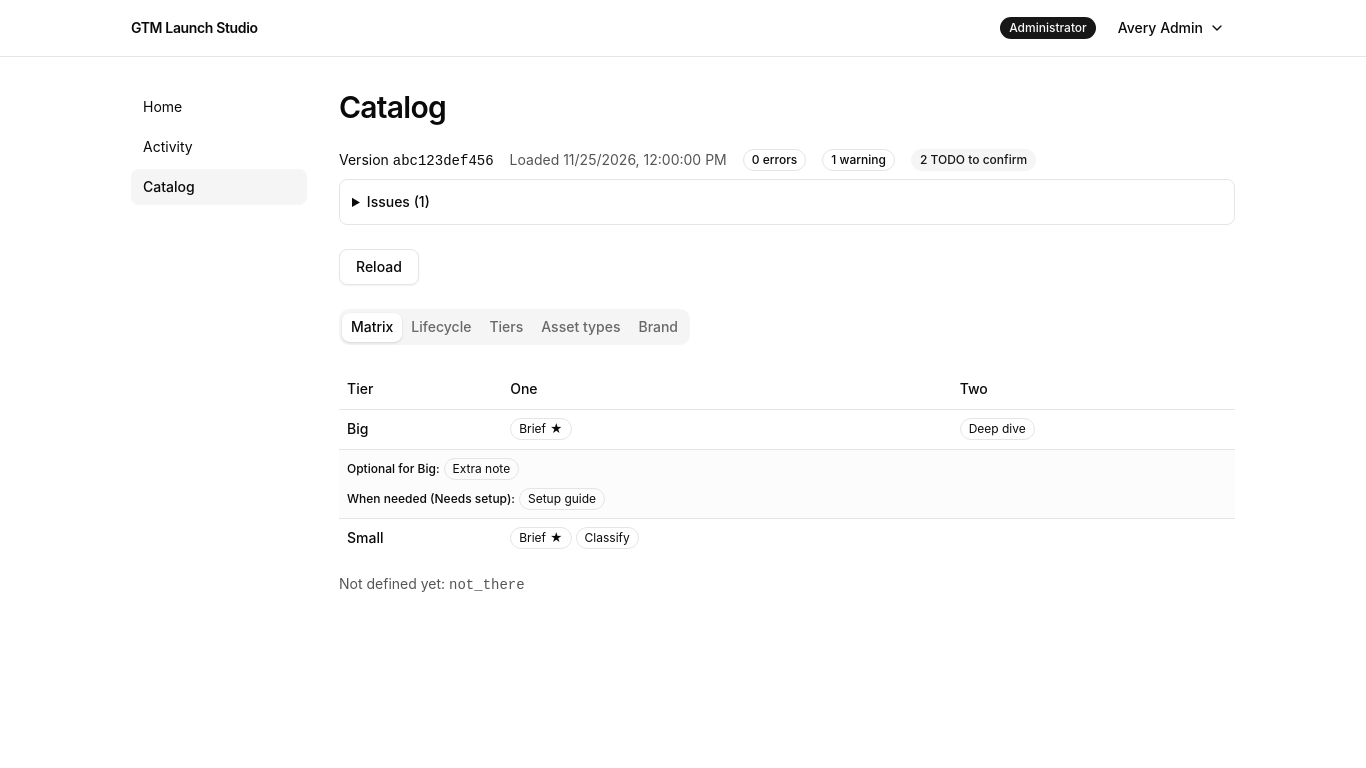
CatalogPage › tabs › Lifecycle lists the gates in order with approver labels and the release gate
The image size is (1366, 768).
Expected: the heading "Catalog" is shown, [339,89,446,125]
Click the tab "Lifecycle". click: (441, 327)
box: [402,312,480,342]
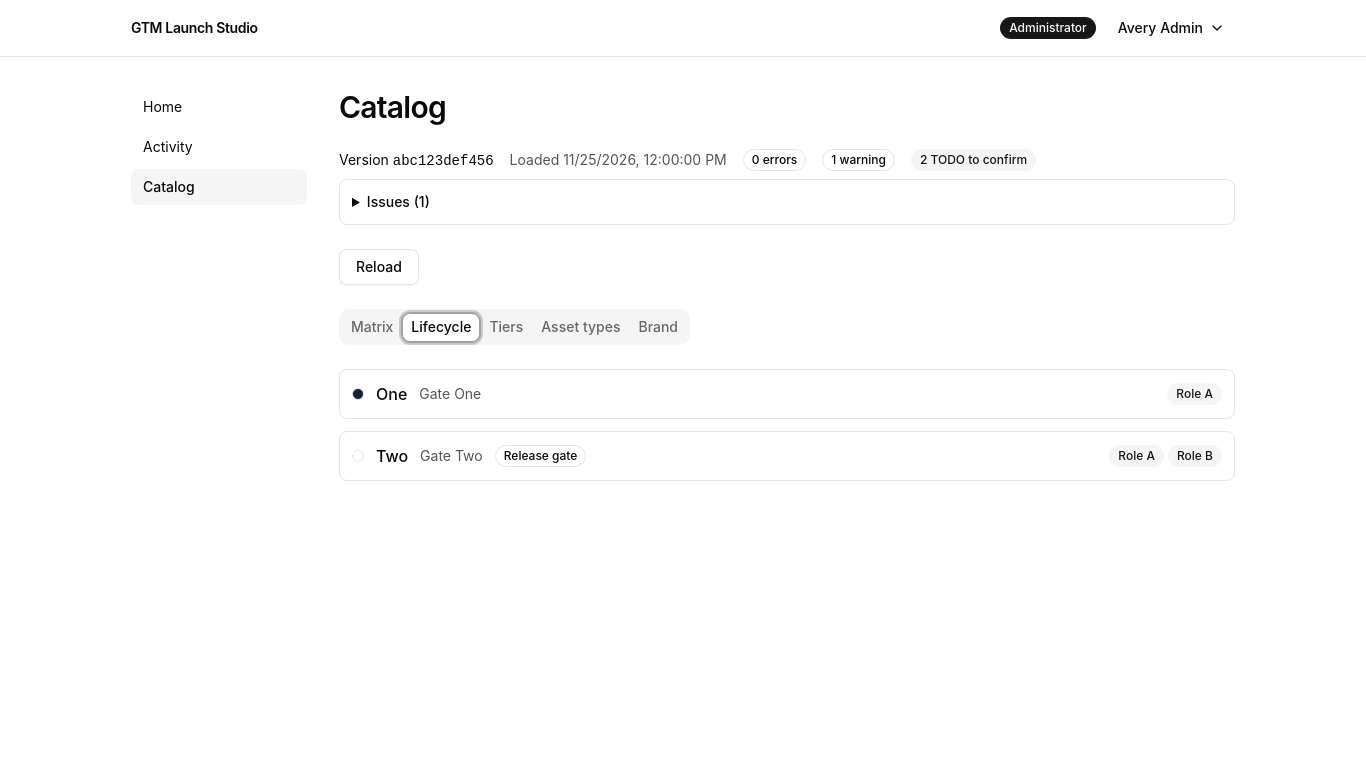
Expected: the text "Role A" in the row of "Gate One" is shown, [1176,386,1213,401]
Expected: the text "Role B" is shown, [1168,445,1222,467]
Expected: the text "Release gate" is shown, [495,445,586,467]
